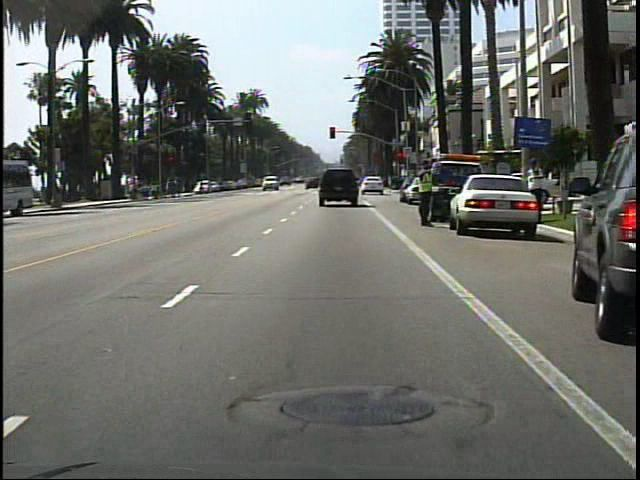person: (525, 155, 551, 242), (414, 159, 440, 228)
